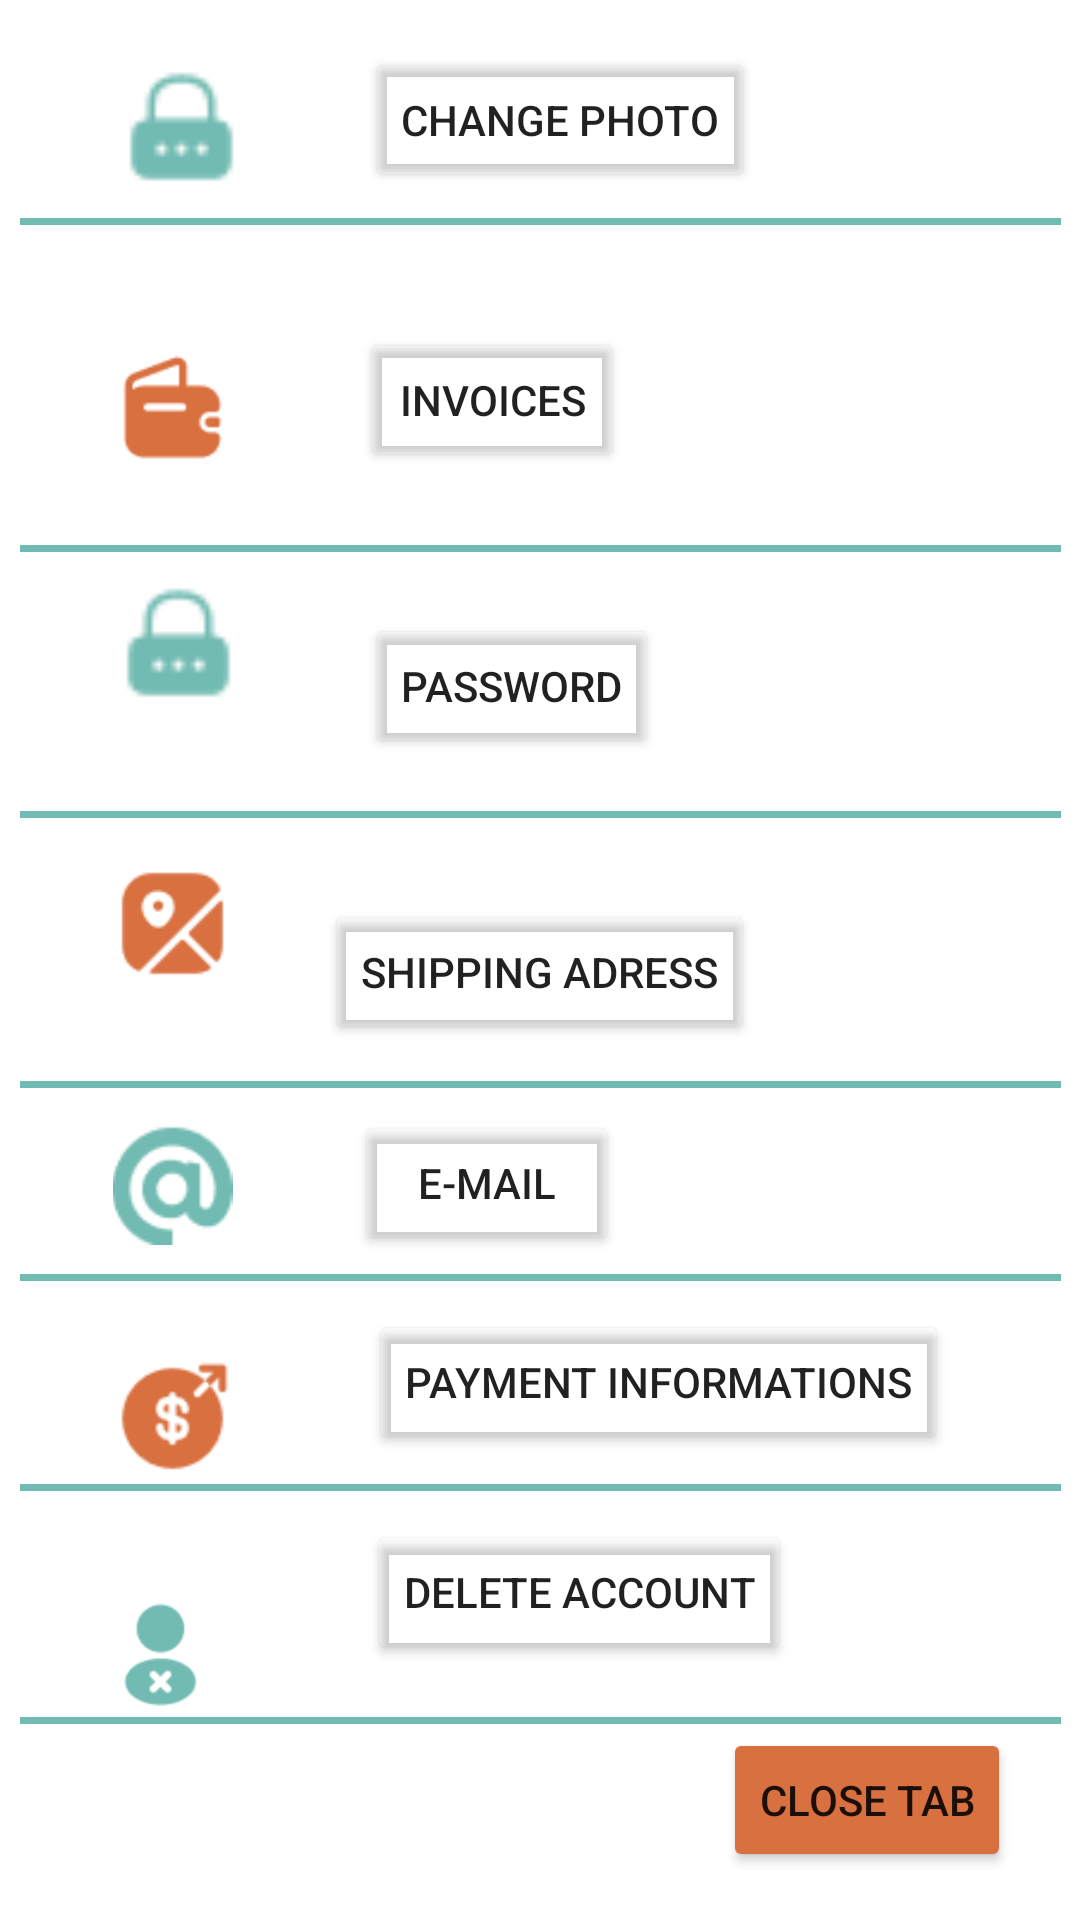

Named icons in this screenshot (1080px×1920px) and their centers, (x=x, y=y):
lock: (x=181, y=127), (x=178, y=642)
